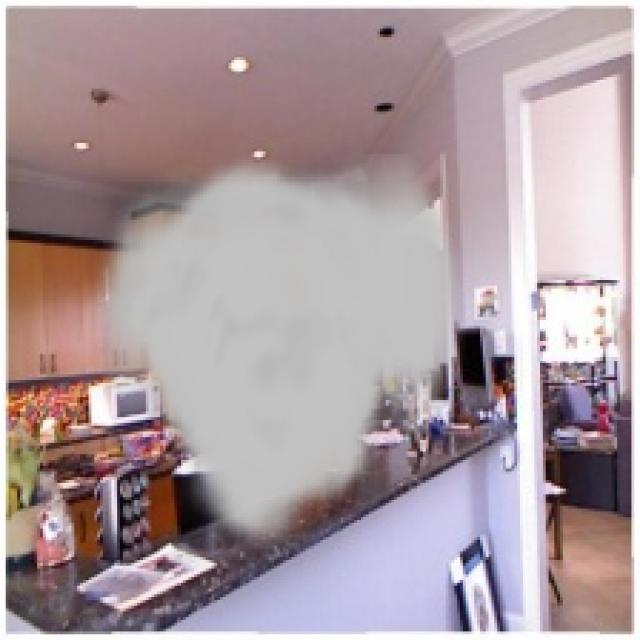smoke: (86, 154, 466, 549)
